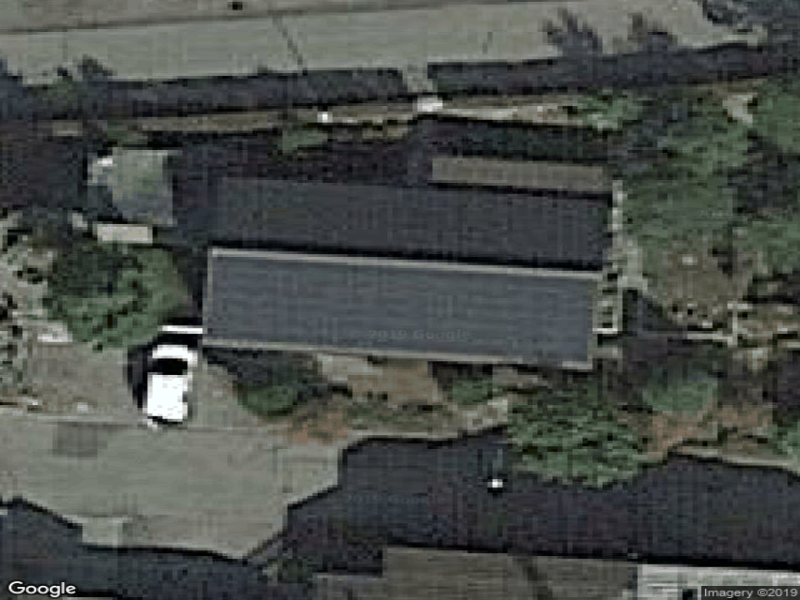pv: (206, 258, 598, 363)
